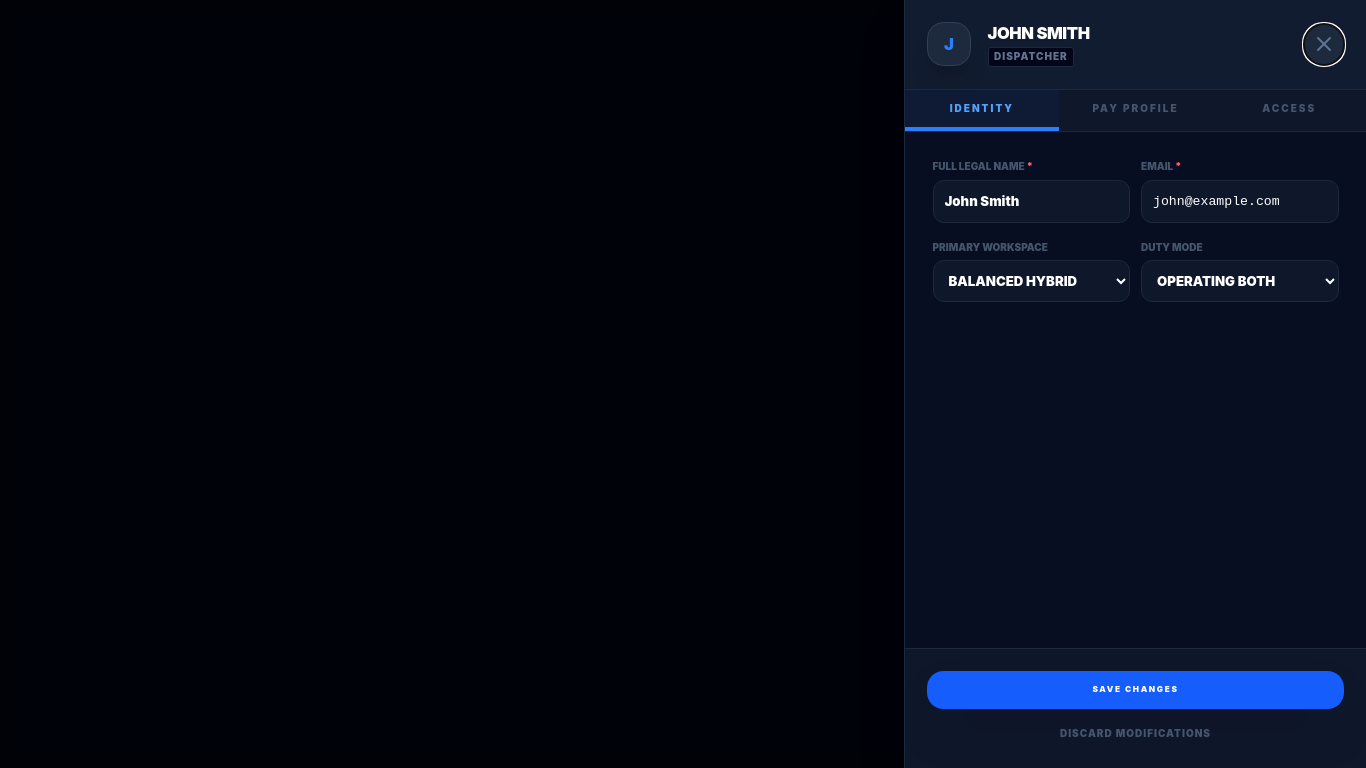
Test: EditUserModal / UserProfilePanel › switches to Pay Profile tab and shows pay model options
What coordinates should you click on to do the following:
click the button "Pay Profile"
I would click on:
 (1136, 110)
Its box is [1059,90,1212,130].
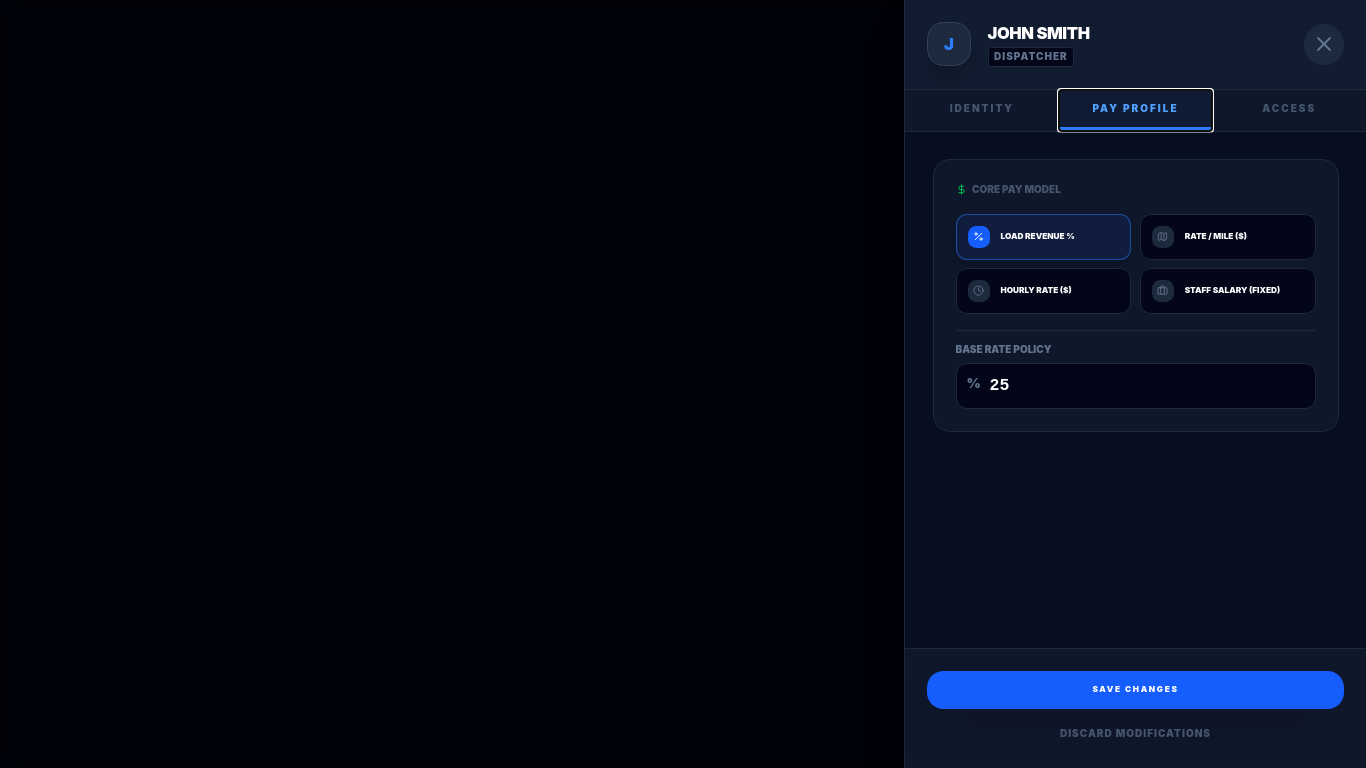
Check: the heading "Core Pay Model" is shown, box [956,183,1061,195]
Check: the text "Load Revenue %" is shown, box [1000,231,1075,242]
Check: the text "Rate / Mile ($)" is shown, box [1185,231,1247,242]
